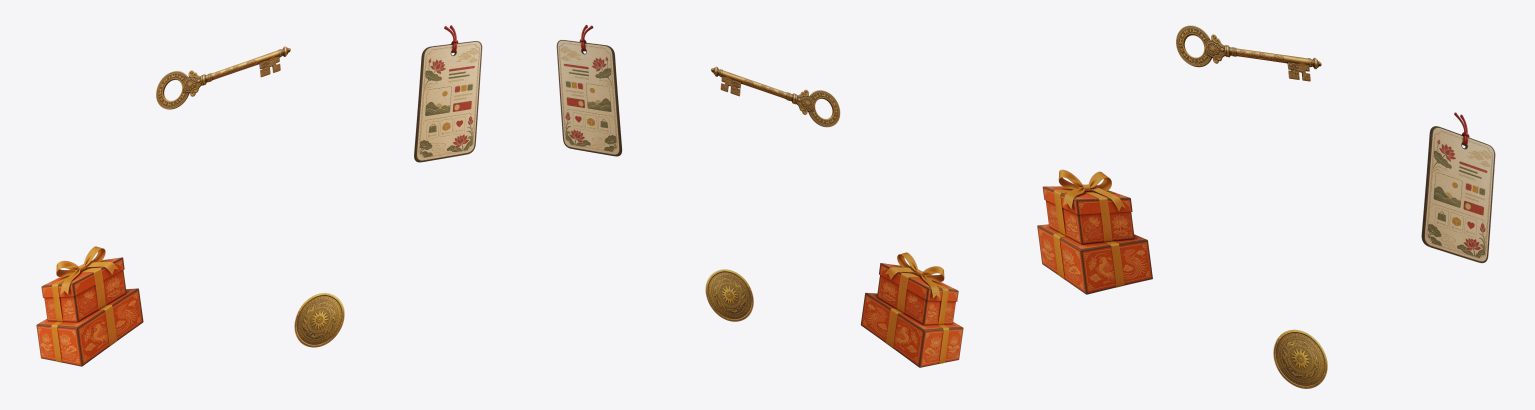
File: EW26_Checkout_251209_compressed-optimized-0d3bf25f4c.glb
The picture shows the model from 3 angles, left to right: view 1: azimuth 30°, elevation 25°; view 2: azimuth 150°, elevation 25°; view 3: azimuth 330°, elevation 25°; orthographic projection. The views are drawn at different scales.
Parts seen in each view (by area): view 1: Vietfolk_checkout_giftbox, Vietfolk_checkout_tag, Vietfolk_checkout_coin, Vietfolk_checkout_key; view 2: Vietfolk_checkout_giftbox, Vietfolk_checkout_tag, Vietfolk_checkout_coin, Vietfolk_checkout_key; view 3: Vietfolk_checkout_giftbox, Vietfolk_checkout_tag, Vietfolk_checkout_coin, Vietfolk_checkout_key.
Part boxes in pixels (<box>): Vietfolk_checkout_giftbox: <box>36,246,143,366</box>; Vietfolk_checkout_tag: <box>414,25,482,162</box>; Vietfolk_checkout_coin: <box>294,293,344,347</box>; Vietfolk_checkout_key: <box>156,46,290,109</box>; Vietfolk_checkout_giftbox: <box>860,252,963,367</box>; Vietfolk_checkout_tag: <box>556,25,621,156</box>; Vietfolk_checkout_coin: <box>705,269,753,321</box>; Vietfolk_checkout_key: <box>711,66,840,127</box>; Vietfolk_checkout_giftbox: <box>1037,169,1152,294</box>; Vietfolk_checkout_tag: <box>1421,112,1495,262</box>; Vietfolk_checkout_coin: <box>1273,329,1327,388</box>; Vietfolk_checkout_key: <box>1176,25,1321,81</box>.
Bounding box in the file's own units: 2.53 × 1.61 × 0.22.
4 materials, 4 textured.
